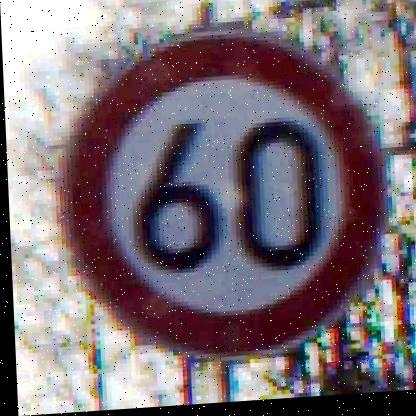Speed Limit -60-: (49, 22, 392, 378)
